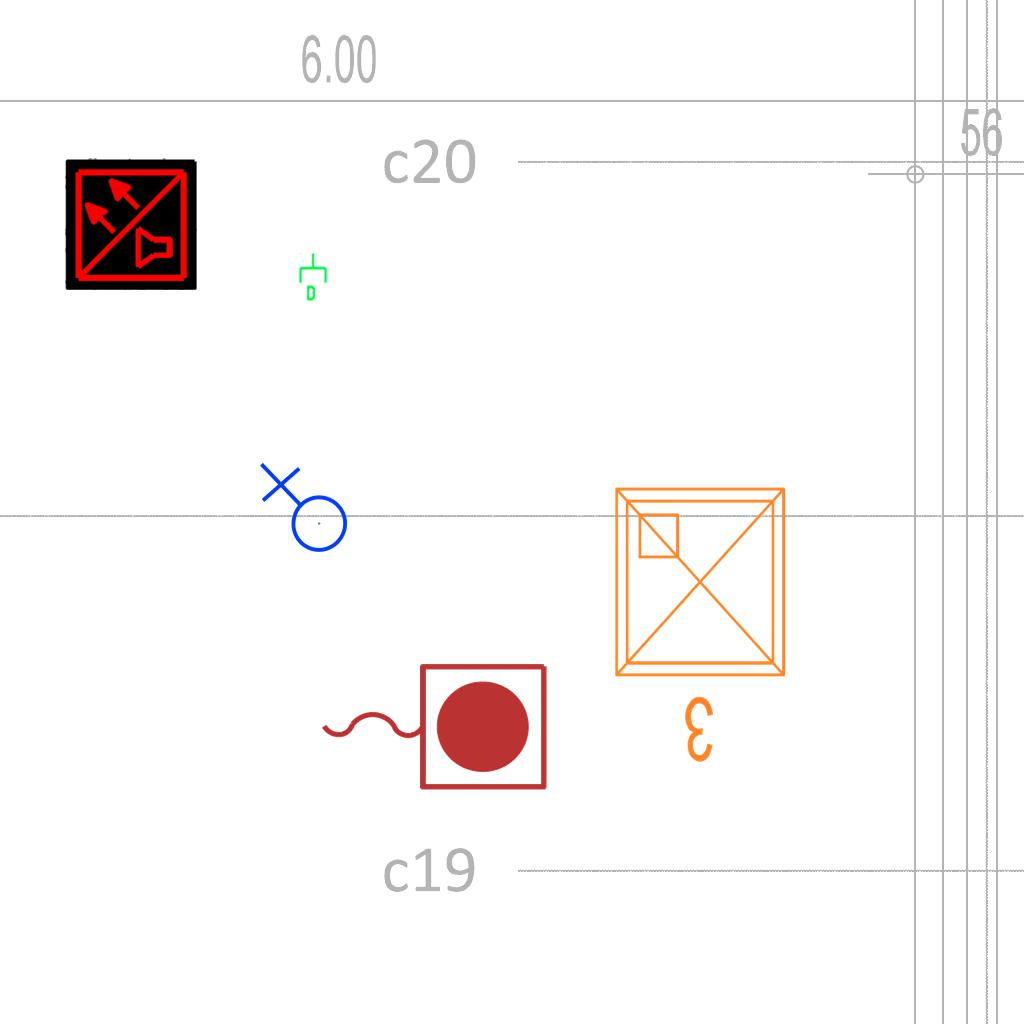Datenanschluss_einfach: (297, 252, 331, 302)
Einbaudownlights_LED_Konferenzraeume: (600, 473, 808, 773)
Elektroanschluss_allgemein_230V_Geraeteanschlussdose_230V: (255, 462, 349, 561)
OKW_Multisensormelder_(Kombination_optischer_Rauch-Kahlenmonoxid_Waerme-Melder): (65, 158, 197, 290)
Zugtaster: (311, 653, 555, 797)
